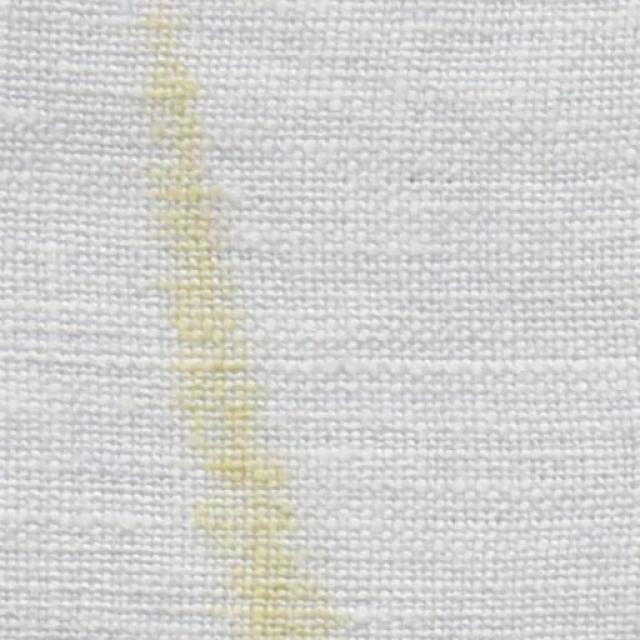Stain: (109, 0, 325, 639)
